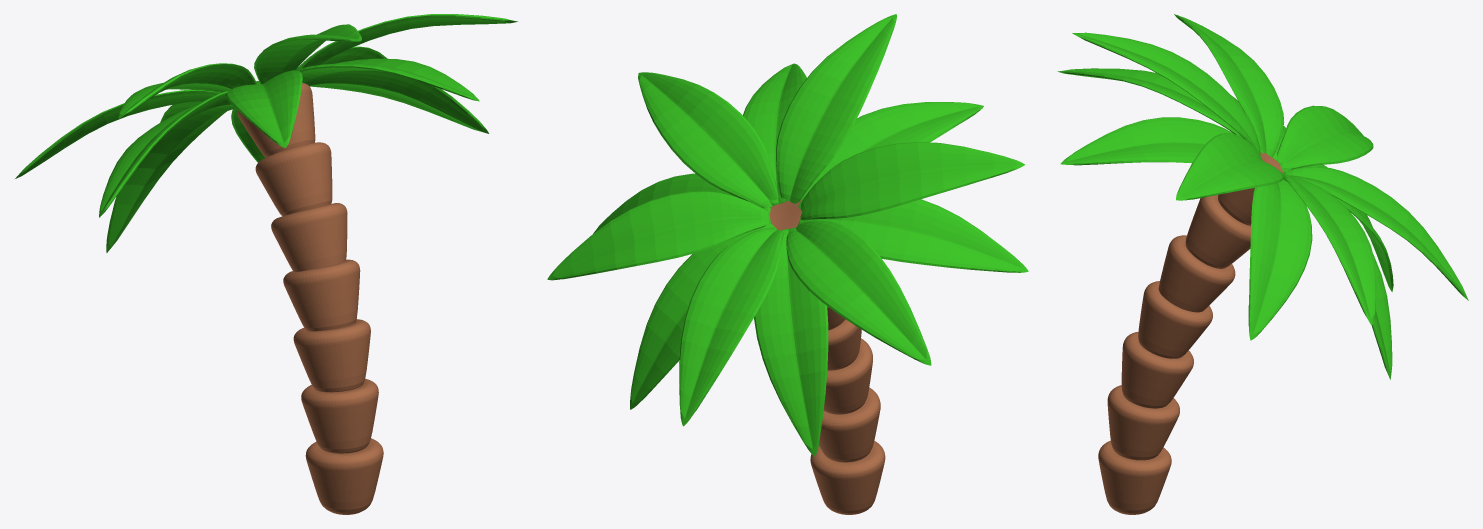
Rendered from Palmera1_30.fbx.
3 views of the same model, side by side, from view 1: azimuth 30°, elevation 25°; view 2: azimuth 150°, elevation 25°; view 3: azimuth 270°, elevation 25° (orthographic). The views are drawn at different scales.
Parts seen in each view (by area): view 1: Cylinder.032; view 2: Cylinder.032; view 3: Cylinder.032.
Part boxes in pixels (x1=…): Cylinder.032: x1=15, y1=14, x2=517, y2=514; Cylinder.032: x1=547, y1=14, x2=1028, y2=514; Cylinder.032: x1=1057, y1=14, x2=1468, y2=514.
Size of the model in its own units: 6686 by 7493 by 5975.
